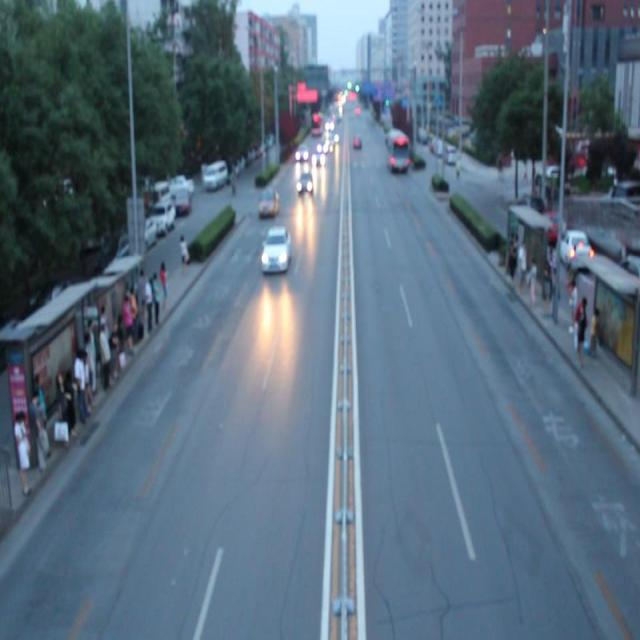car: (261, 224, 289, 274), (259, 186, 277, 218), (296, 171, 312, 194), (311, 150, 325, 168), (295, 143, 308, 162)
van: (383, 129, 408, 171)
